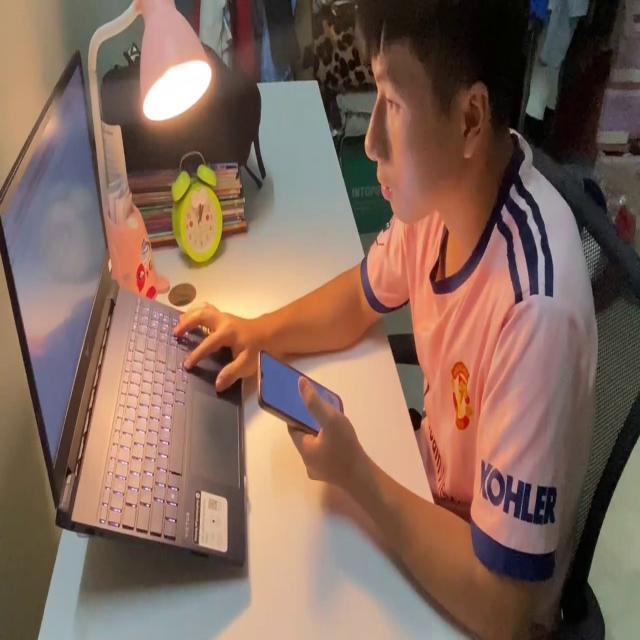laptop: (0, 42, 249, 577)
phone: (255, 346, 348, 444)
student: (173, 0, 597, 640)
